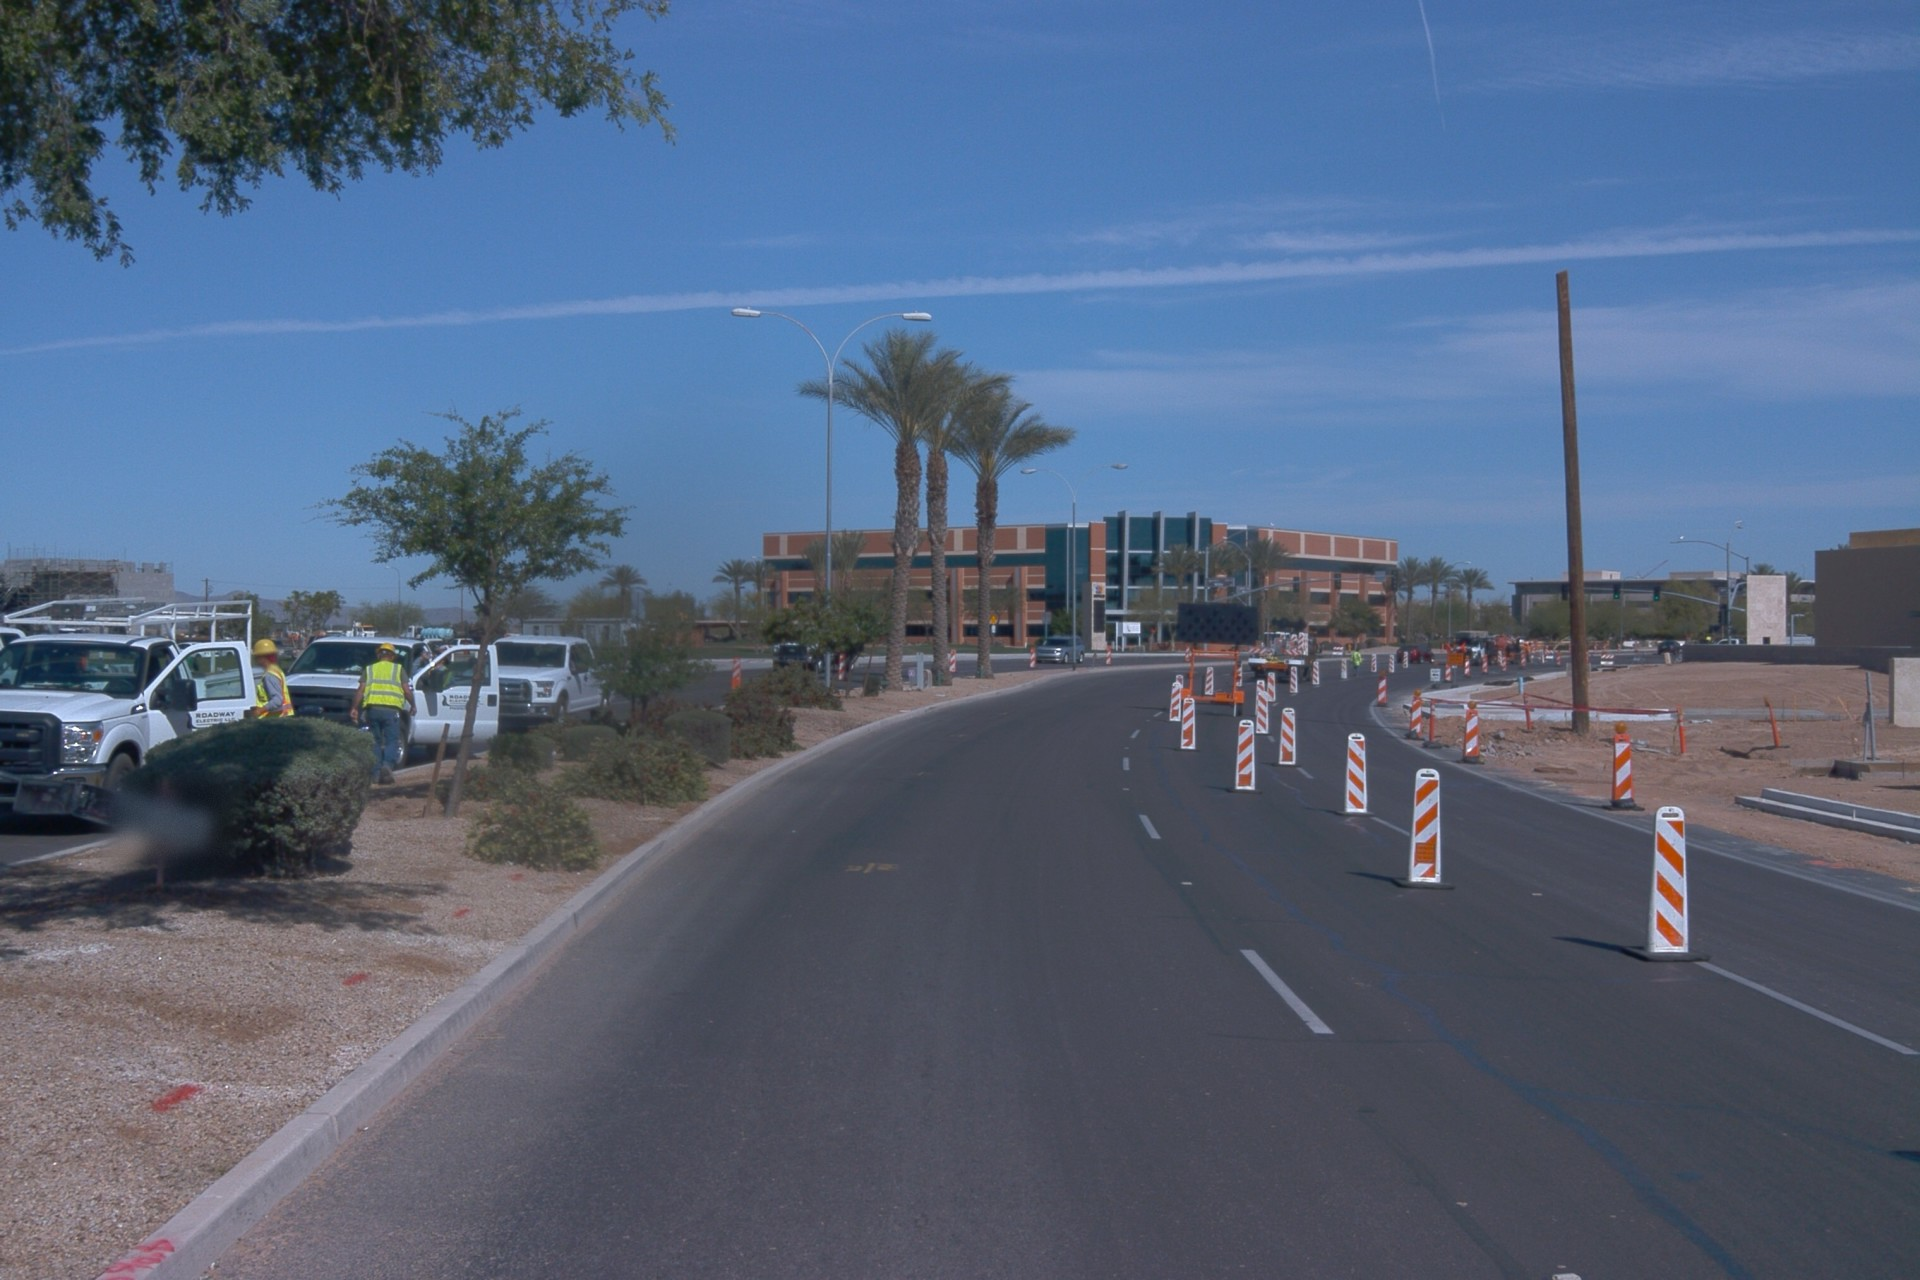TYPE_PEDESTRIAN: (347, 644, 419, 789), (249, 638, 298, 723), (1350, 646, 1362, 679)
TYPE_VEHICLE: (0, 595, 262, 749), (0, 622, 198, 825), (0, 730, 254, 856), (281, 630, 454, 767), (449, 628, 614, 735), (1170, 593, 1268, 722), (759, 621, 864, 681), (1235, 614, 1321, 685), (1452, 626, 1534, 667), (1034, 634, 1087, 667), (257, 632, 302, 667), (1392, 641, 1438, 667), (1258, 628, 1301, 647), (448, 636, 475, 652), (1718, 633, 1746, 647)
